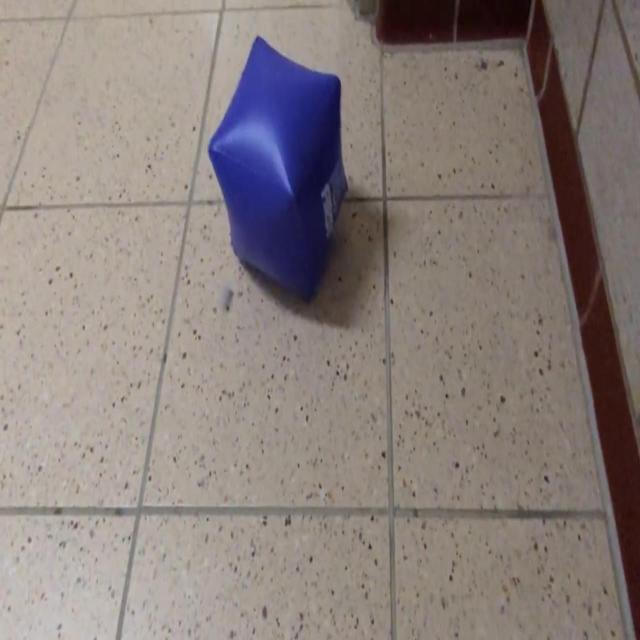frc_cube: (208, 35, 350, 298)
